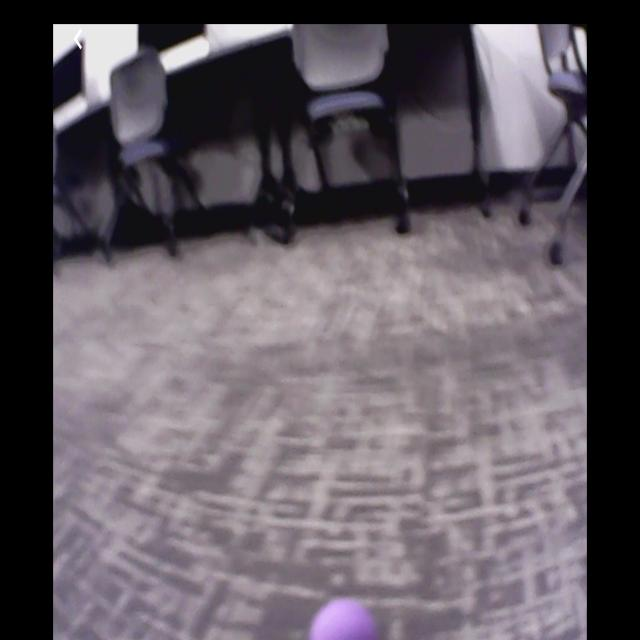ball: (310, 596, 377, 640)
